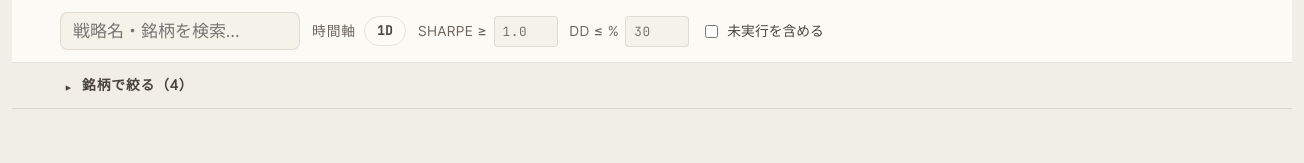
Test: <FilterBar /> 銘柄チップの折り畳み › 展開すると銘柄チップが出る
What coordinates should you click on to do the following:
click the button "▾ 銘柄で絞る（4）"
I would click on:
 (138, 85)
Its box is top-left (12, 63), bottom-right (1292, 109).
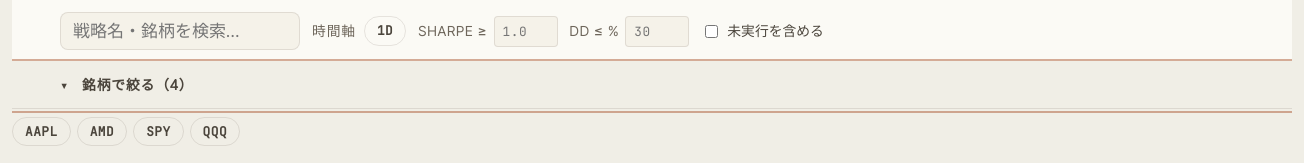
Now the button "AAPL" is shown, box top-left (12, 117), bottom-right (71, 146)
